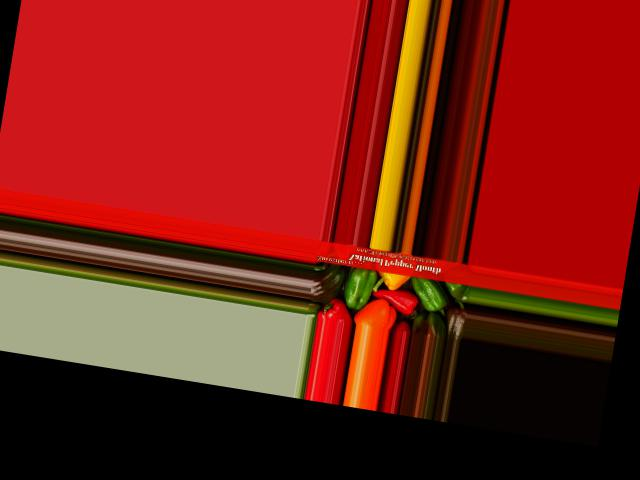bell_pepper: (309, 260, 346, 305)
